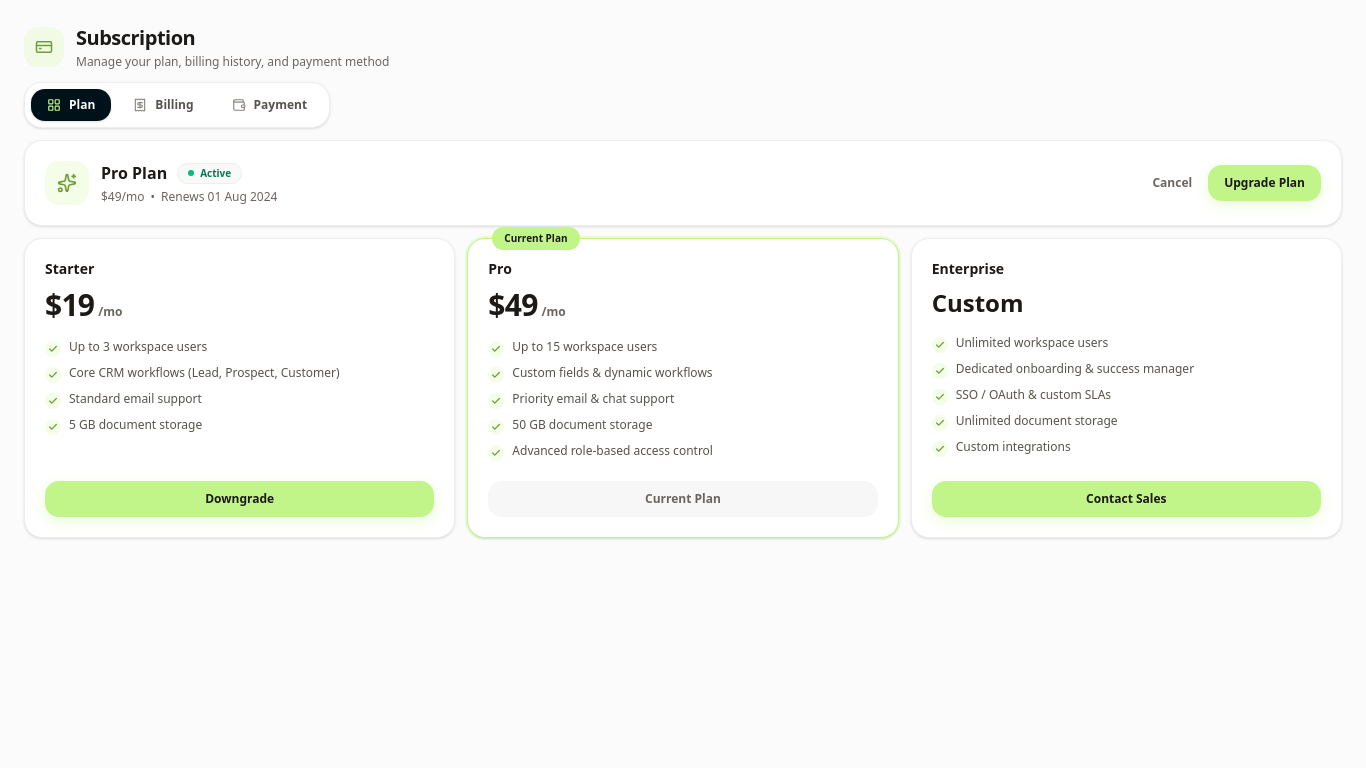
Scenario: SubscriptionPage — Plan tab › upgrading from the current plan card updates the plan and shows a confirmation
Expected: the heading "Pro Plan" is shown, [101,161,167,185]
Click the button "Upgrade Plan". click: {"x": 1265, "y": 183}
box: [1208,165,1321,201]
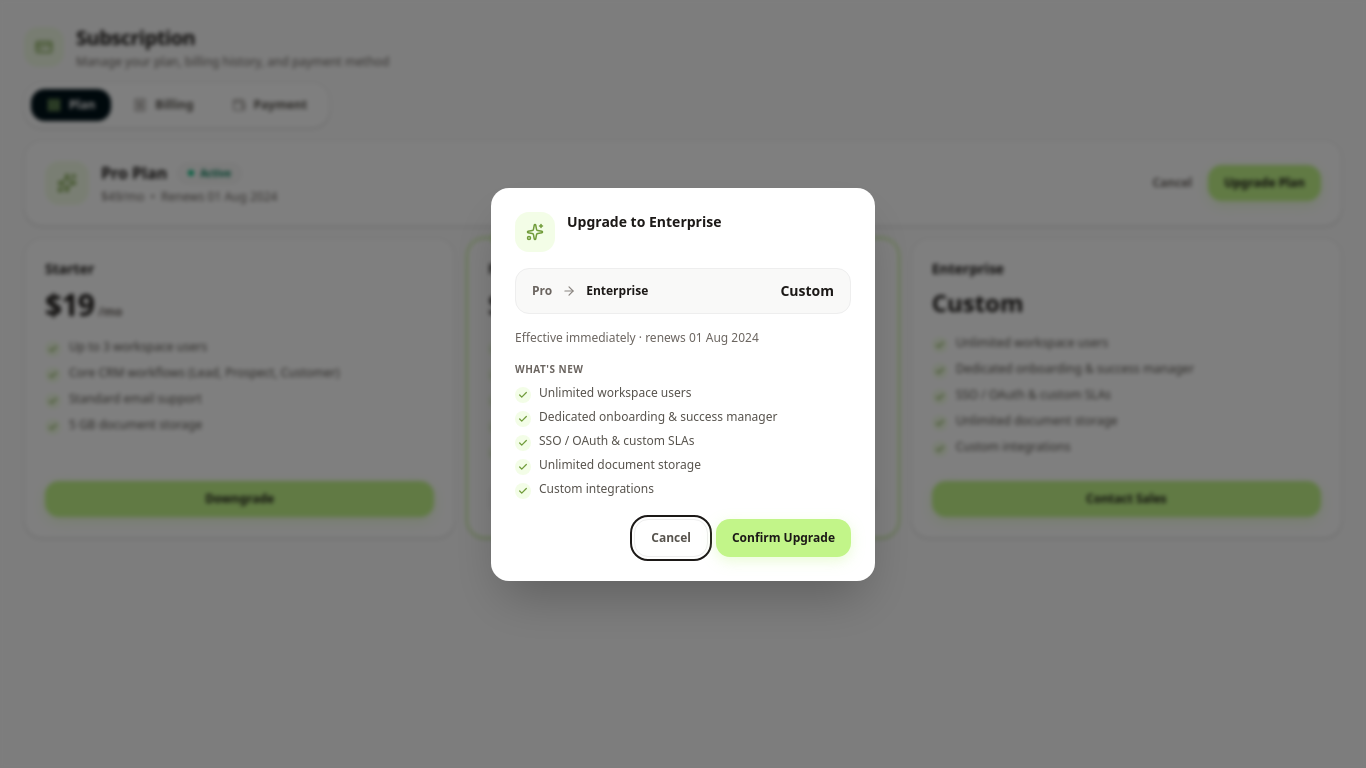
Now the dialog "Upgrade to Enterprise" is shown
Click the button with aria-label "Confirm upgrade to Enterprise". click: {"x": 784, "y": 538}
box: [716,518,851,556]
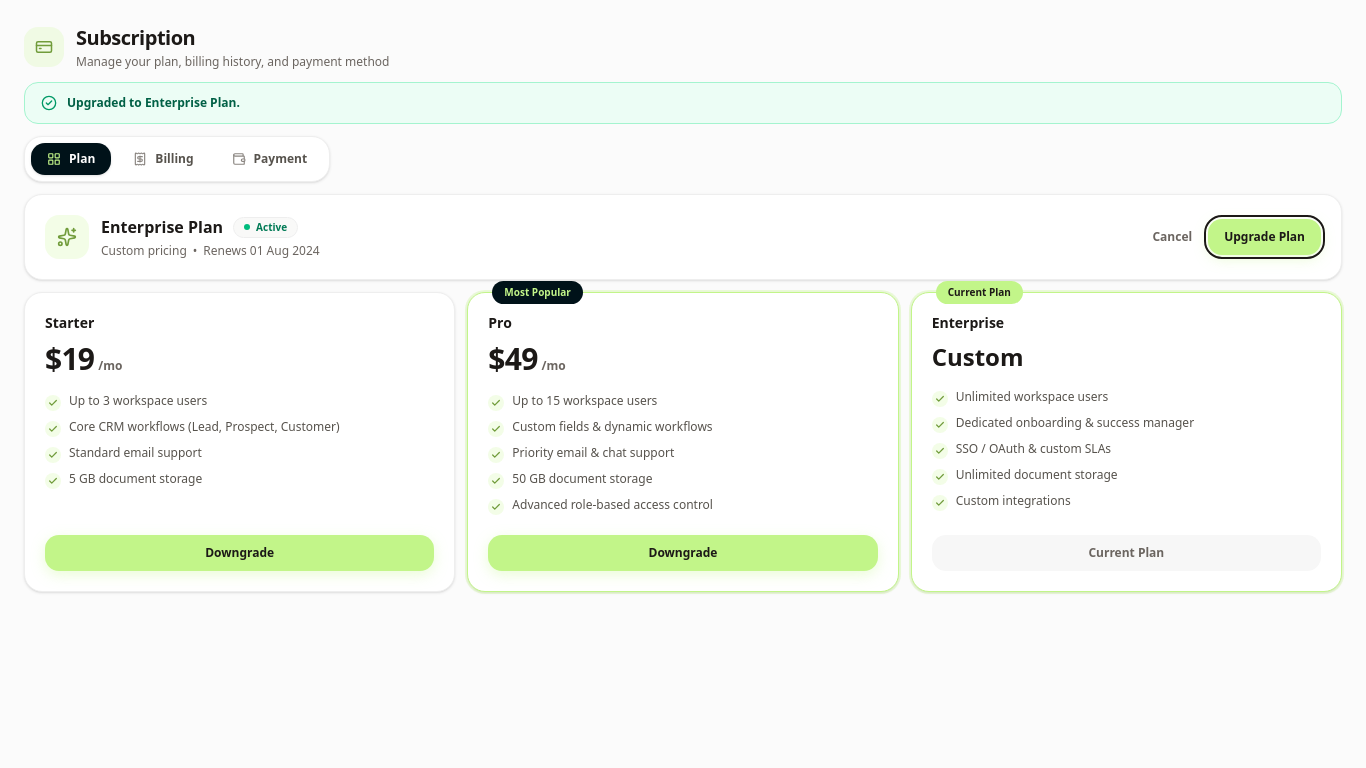
Now the dialog is gone
Now the heading "Enterprise Plan" is shown, box [101,215,223,239]
Now the message reads "Upgraded to Enterprise Plan.", box [67,94,240,111]
